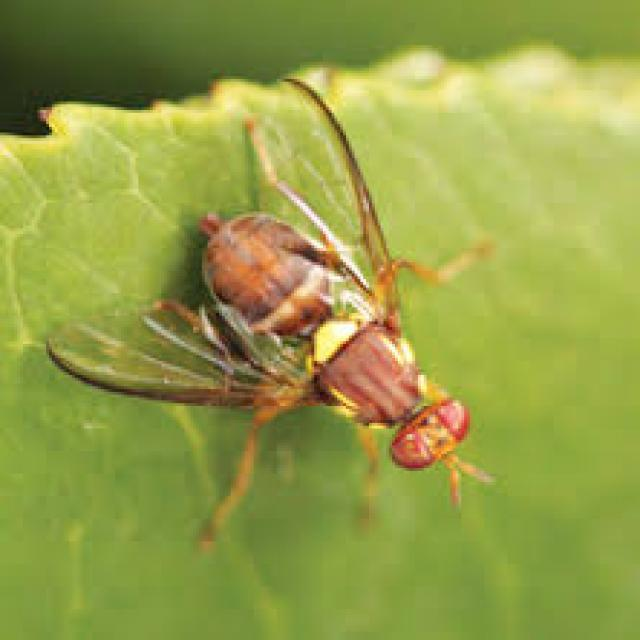Fruit fly: (31, 70, 512, 564)
